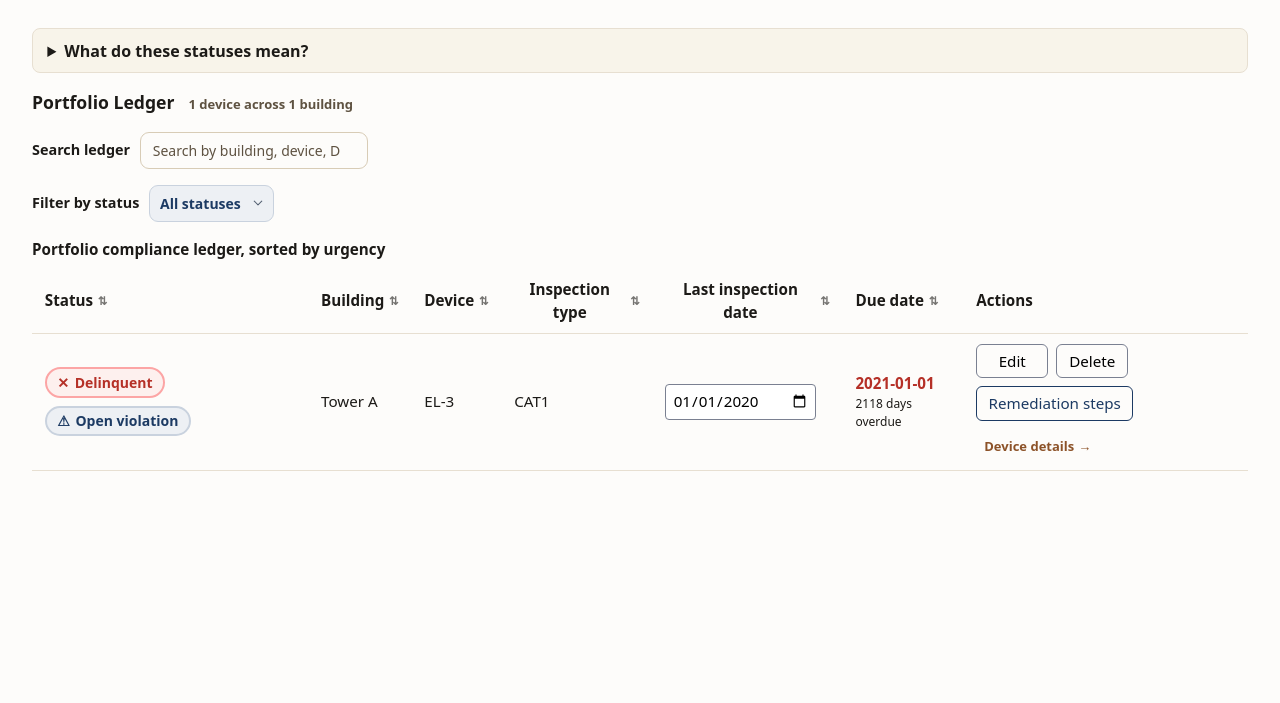
LedgerPage › mentions the open violation in the expanded remediation panel
Click the button with aria-label "remediation steps for el-3" at (1055, 403), box [976,386,1133,420]
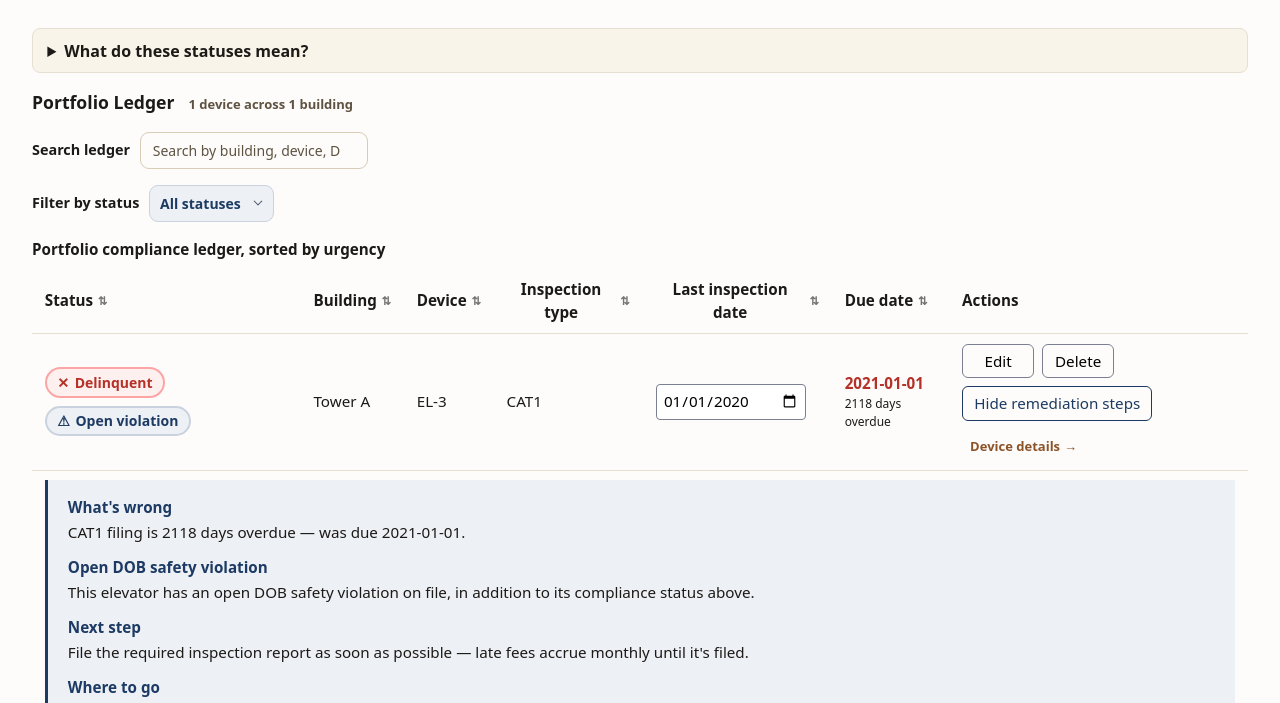
Expected: the text "Open DOB safety violation" is shown, [68,557,268,577]
